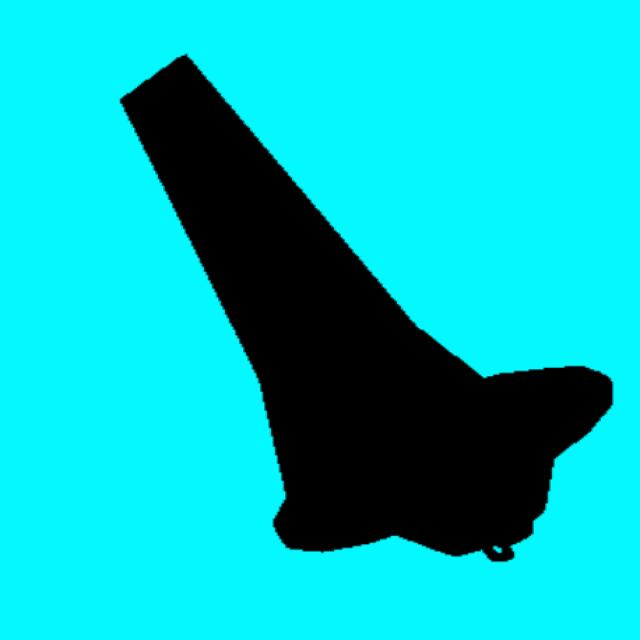BlackBuoy: (118, 51, 614, 562)
